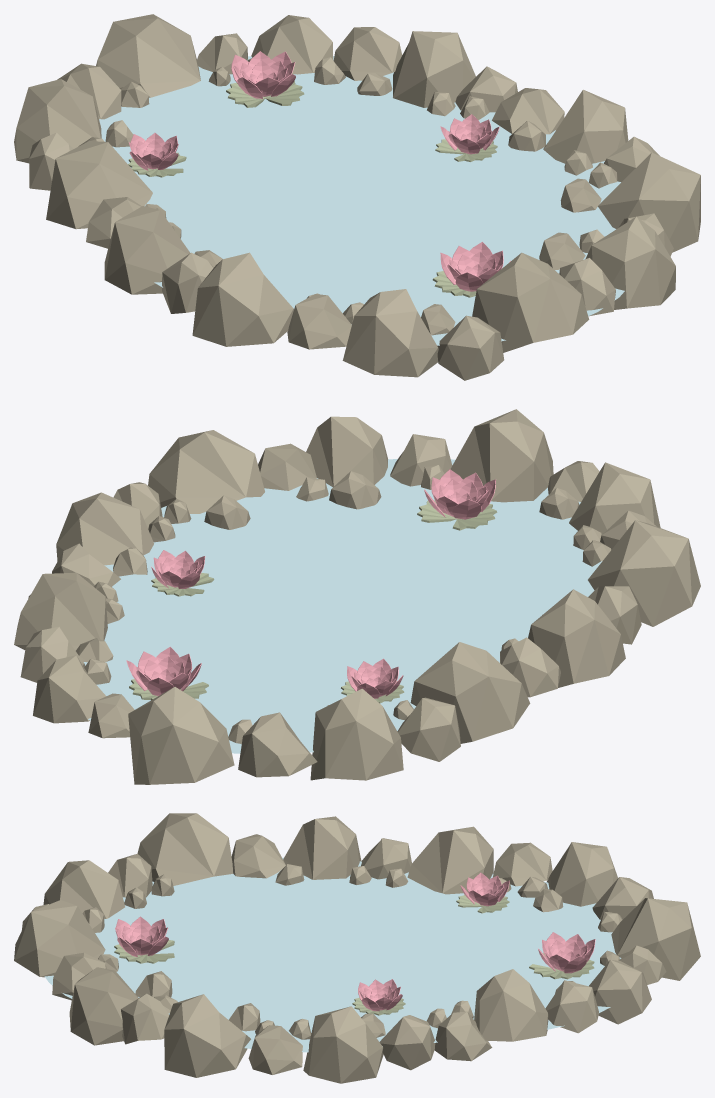
Rendered from Fishing Pond.fbx.
The picture shows the model from 3 angles, top to bottom: view 1: azimuth 30°, elevation 25°; view 2: azimuth 150°, elevation 25°; view 3: azimuth 270°, elevation 25°; orthographic projection. The views are drawn at different scales.
Visible parts, largest first — view 1: Cylinder.007; view 2: Cylinder.007; view 3: Cylinder.007.
Boxes of the visible parts, x1,y1,x2,y2 form: Cylinder.007: (14,14,700,380); Cylinder.007: (14,409,700,784); Cylinder.007: (14,813,700,1083).
Bounding box in the file's own units: 862 × 149 × 1145.
